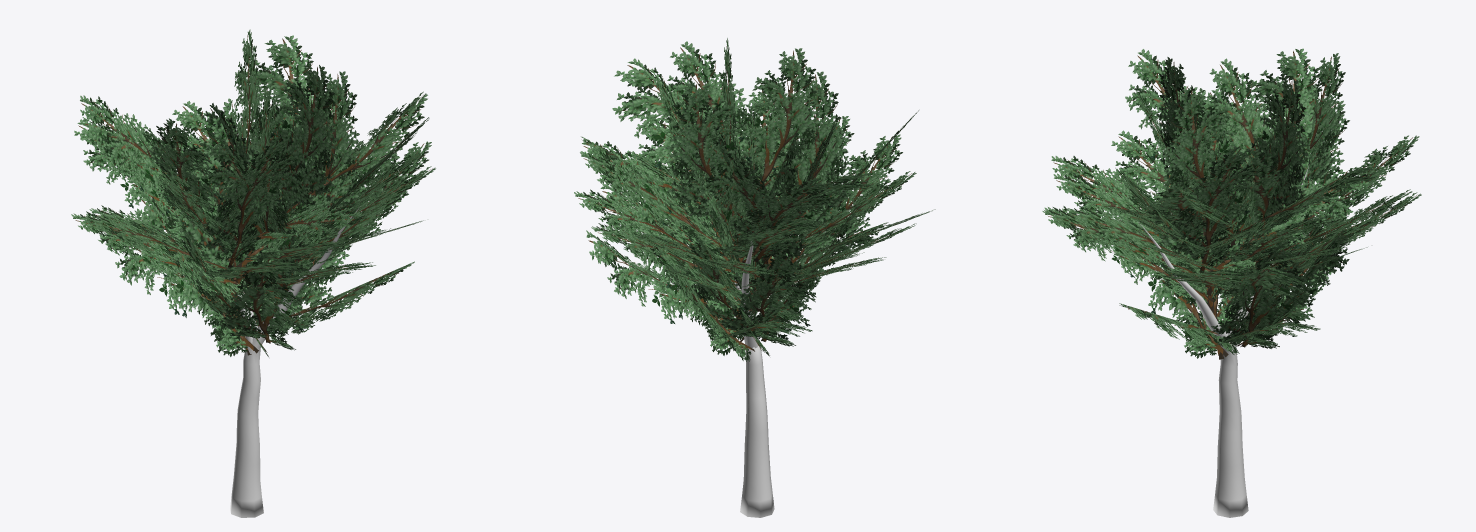
Rendered from tree 1.fbx.
The picture shows the model from 3 angles, left to right: view 1: azimuth 30°, elevation 25°; view 2: azimuth 150°, elevation 25°; view 3: azimuth 270°, elevation 25°; orthographic projection.
Parts seen in each view (by area): view 1: Untitled_Artwork (4), tree.003; view 2: Untitled_Artwork (4), tree.003; view 3: Untitled_Artwork (4), tree.003.
Boxes of the visible parts, <box> form: Untitled_Artwork (4): <box>71,29,435,356</box>; tree.003: <box>175,169,360,517</box>; Untitled_Artwork (4): <box>574,38,935,361</box>; tree.003: <box>735,240,774,517</box>; Untitled_Artwork (4): <box>1042,48,1421,359</box>; tree.003: <box>1139,164,1309,517</box>.
Bounding box in the file's own units: 1635 × 1901 × 1620.
